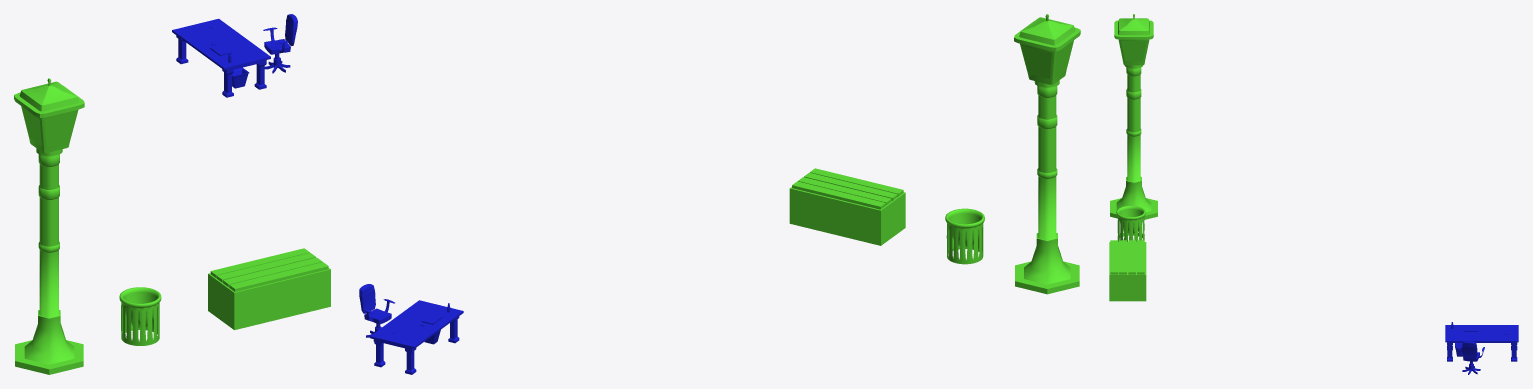
File: Props_Gamelab_EXT&INT.fbx
3 views of the same model, side by side, from view 1: azimuth 30°, elevation 25°; view 2: azimuth 150°, elevation 25°; view 3: azimuth 270°, elevation 25° (orthographic). The views are drawn at different scales.
Visible parts, largest first — view 1: Cylinder001, Object045, Box018, Object051, Object047, Object042, Object046, Object043; view 2: Cylinder001, Object045, Box018, Object051, Object043, Object046, Object047, Object042; view 3: Cylinder001, Box018, Object045, Object051.
Boxes of the visible parts, left/top/right/bottom form: Cylinder001: left=14, top=78, right=84, bottom=374; Object045: left=208, top=268, right=330, bottom=330; Box018: left=172, top=14, right=297, bottom=97; Object051: left=119, top=287, right=161, bottom=345; Object047: left=229, top=262, right=328, bottom=291; Object042: left=216, top=253, right=315, bottom=282; Object046: left=223, top=257, right=322, bottom=287; Object043: left=210, top=248, right=309, bottom=278; Cylinder001: left=1014, top=14, right=1080, bottom=294; Object045: left=789, top=187, right=905, bottom=245; Box018: left=359, top=284, right=463, bottom=374; Object051: left=945, top=208, right=984, bottom=264; Object043: left=792, top=181, right=885, bottom=209; Object046: left=804, top=172, right=897, bottom=200; Object047: left=810, top=168, right=903, bottom=196; Object042: left=798, top=177, right=891, bottom=205; Cylinder001: left=1110, top=14, right=1157, bottom=219; Box018: left=1445, top=322, right=1518, bottom=374; Object045: left=1109, top=242, right=1146, bottom=301; Object051: left=1116, top=205, right=1145, bottom=241.
Size of the model in its own units: 1760 by 905 by 1709.
